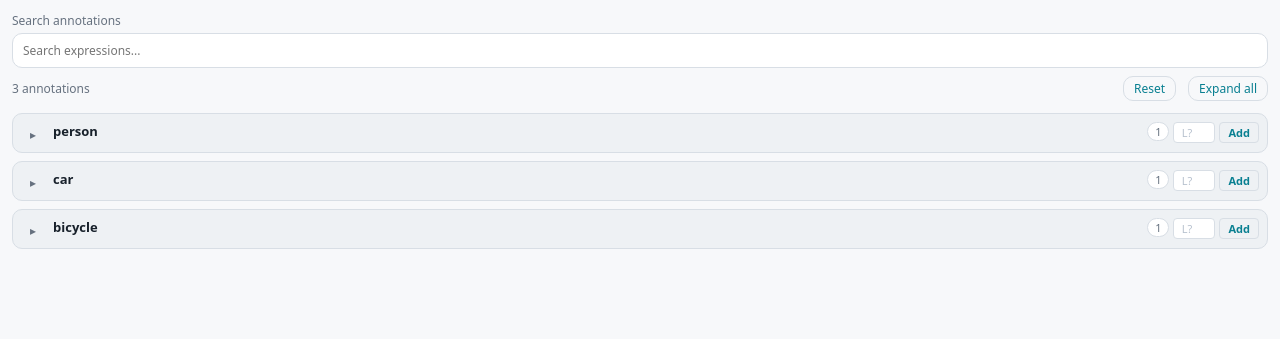
Test: keeps each card's source ordinal while filtering
Type "bicycle" into the search field labelled "Search annotations". click: (640, 50)
box: [12,33,1268,68]
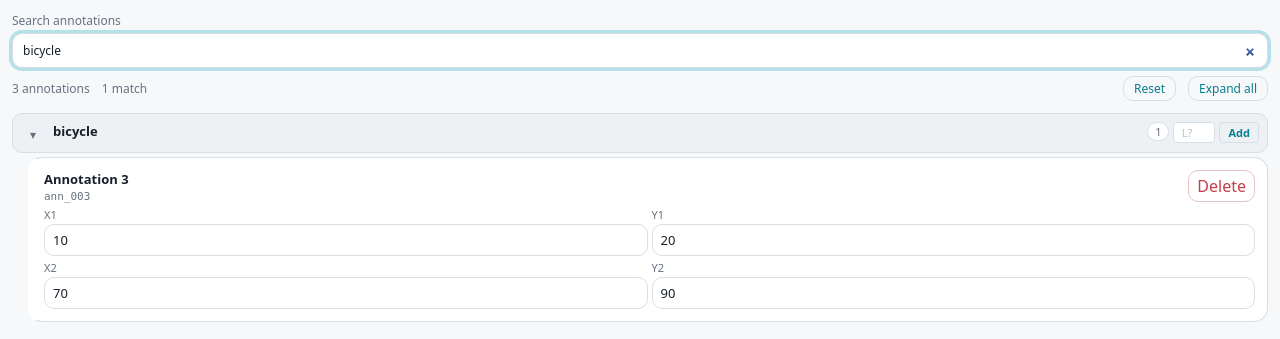
Check: the text "Annotation 3" is shown, box [44,170,129,188]
